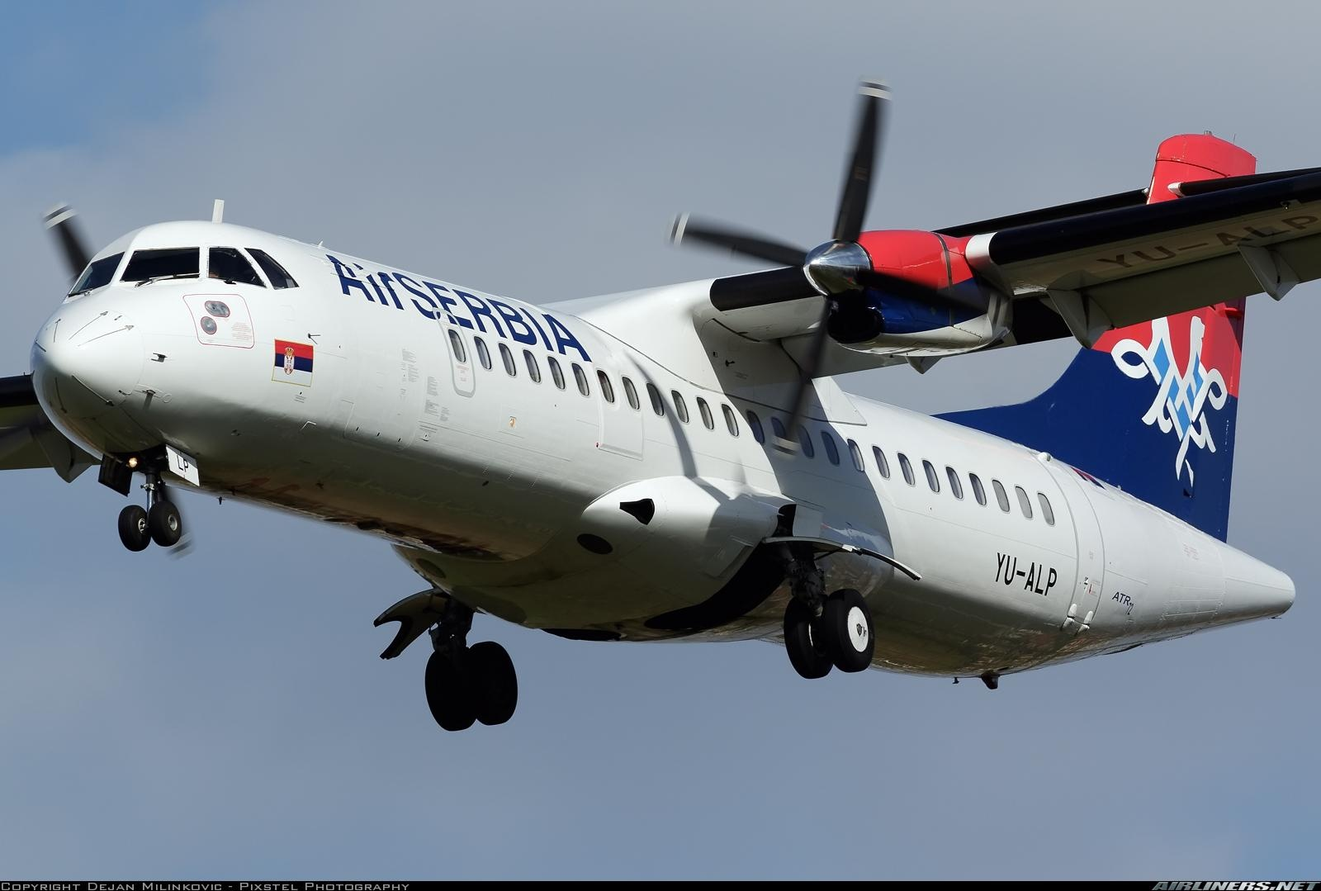aircraft: (28, 79, 1314, 753)
